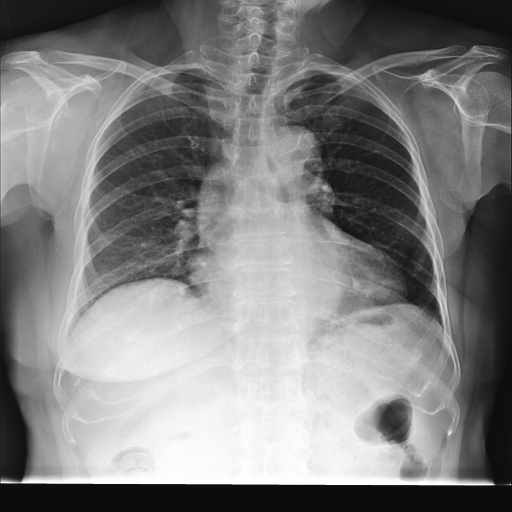Consolidation: (200, 126, 324, 252), (261, 125, 323, 167)
Nodule/Mass: (184, 245, 408, 307)
